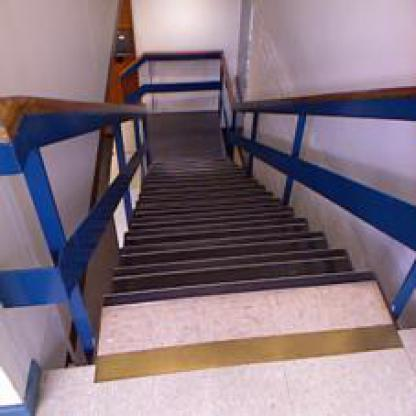stair_down: (86, 242, 398, 344)
